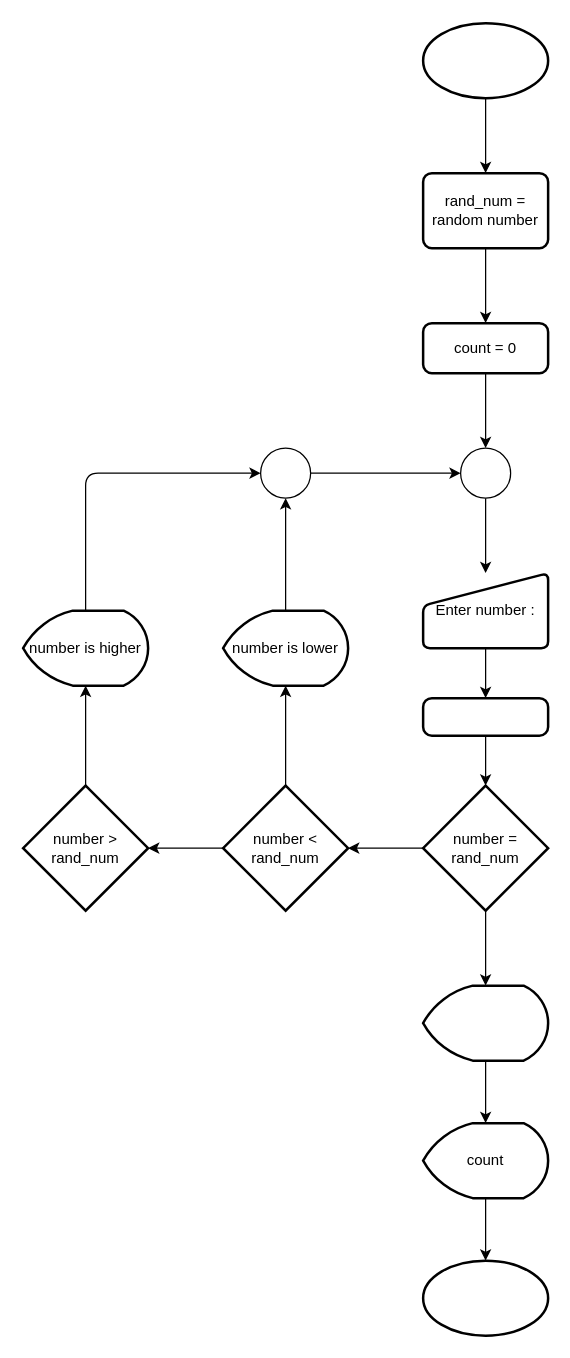
The diagram is 570 pixels wide and 1358 high, and some of its shapes have lost their labels. The centre of each missing label's shape, as x and y in pixels:
"Congratulation" goes at point 485,1022.
"count += 1" goes at point 485,716.
"End" goes at point 485,1297.
"Start" goes at point 485,60.
